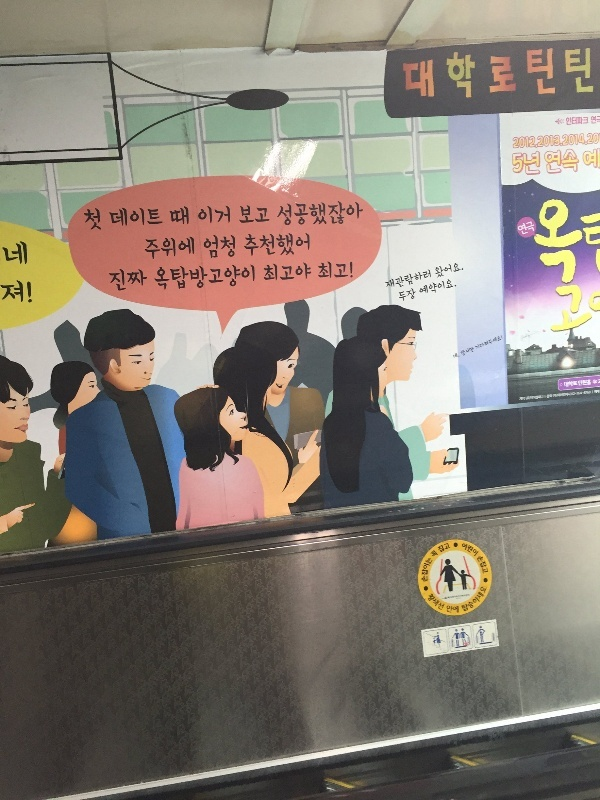text: (545, 193, 560, 288), (561, 193, 576, 288), (577, 193, 592, 288), (531, 193, 544, 288), (417, 39, 432, 103), (433, 39, 448, 103), (449, 39, 464, 103), (465, 39, 480, 103), (481, 39, 496, 103), (497, 39, 512, 103), (513, 39, 528, 103), (529, 39, 544, 103), (545, 39, 560, 103), (561, 39, 576, 103), (577, 39, 592, 103), (402, 39, 416, 103), (580, 211, 592, 278), (561, 284, 576, 336), (577, 284, 592, 336), (241, 261, 257, 294), (465, 581, 480, 616), (1, 274, 16, 308), (17, 274, 32, 308), (161, 261, 176, 294), (177, 261, 192, 294), (193, 261, 208, 294), (209, 261, 224, 294), (225, 261, 240, 294), (593, 211, 600, 278), (289, 199, 304, 229), (305, 199, 320, 229), (321, 199, 336, 229), (337, 199, 352, 229), (161, 235, 176, 263), (177, 235, 192, 263), (257, 231, 272, 259), (273, 231, 288, 259), (289, 231, 304, 259), (113, 267, 128, 295), (129, 267, 144, 295), (146, 235, 160, 263), (545, 148, 560, 174), (561, 148, 576, 174), (209, 234, 224, 260), (417, 267, 433, 291), (513, 151, 528, 176), (82, 207, 96, 233), (2, 239, 16, 265), (385, 267, 400, 291), (401, 267, 416, 291), (353, 199, 365, 229), (209, 204, 224, 227), (433, 277, 448, 299), (113, 207, 128, 229), (129, 207, 144, 229), (145, 207, 160, 229), (273, 262, 288, 284), (289, 262, 304, 284), (321, 259, 336, 281), (337, 259, 352, 281), (177, 204, 191, 227), (225, 234, 237, 260), (449, 261, 465, 280), (401, 286, 417, 305), (241, 206, 256, 226), (433, 592, 446, 614), (419, 277, 432, 299), (17, 239, 28, 265), (257, 206, 271, 226), (529, 151, 540, 176), (465, 540, 480, 558), (434, 261, 448, 280), (555, 284, 560, 336), (593, 284, 598, 336), (513, 133, 528, 150), (529, 133, 544, 150), (545, 133, 560, 150), (561, 133, 576, 150), (577, 133, 592, 150), (481, 334, 496, 351), (247, 231, 256, 259), (481, 581, 488, 616), (198, 204, 208, 227), (582, 147, 592, 169), (517, 217, 528, 237), (449, 277, 459, 299), (281, 199, 288, 229), (305, 231, 312, 259), (593, 193, 595, 288), (168, 204, 176, 227), (481, 553, 489, 575), (305, 262, 313, 284), (225, 204, 232, 227), (97, 207, 103, 233), (593, 147, 600, 169), (465, 344, 476, 358), (265, 262, 272, 284), (427, 555, 432, 585), (437, 541, 448, 554), (529, 217, 536, 237), (460, 581, 464, 616), (452, 351, 464, 362), (203, 234, 208, 260), (593, 39, 595, 103), (577, 116, 589, 126), (497, 334, 504, 351), (193, 235, 197, 263), (108, 267, 112, 295), (145, 267, 149, 295), (578, 379, 592, 387), (449, 604, 459, 615), (577, 390, 592, 397), (577, 148, 581, 174), (593, 133, 599, 150), (566, 116, 576, 126), (157, 261, 160, 294), (564, 381, 576, 389), (545, 394, 560, 400), (476, 553, 480, 575), (108, 207, 112, 229), (475, 334, 480, 351), (530, 395, 544, 401), (433, 549, 439, 560), (161, 207, 164, 229), (547, 394, 560, 399), (561, 392, 571, 398), (460, 344, 464, 358), (519, 396, 528, 402), (593, 378, 599, 386), (428, 549, 432, 560), (398, 286, 400, 305), (593, 116, 597, 125), (596, 115, 600, 124), (571, 390, 576, 397), (33, 274, 34, 308), (433, 555, 434, 585), (553, 394, 560, 398), (449, 541, 451, 554), (594, 390, 600, 394), (431, 592, 432, 614), (319, 259, 320, 281), (353, 259, 354, 281), (239, 206, 240, 226), (557, 392, 560, 398), (577, 381, 579, 389), (598, 378, 600, 385), (447, 604, 448, 615), (526, 396, 528, 401), (529, 396, 531, 401), (591, 116, 592, 125), (593, 390, 594, 395)
